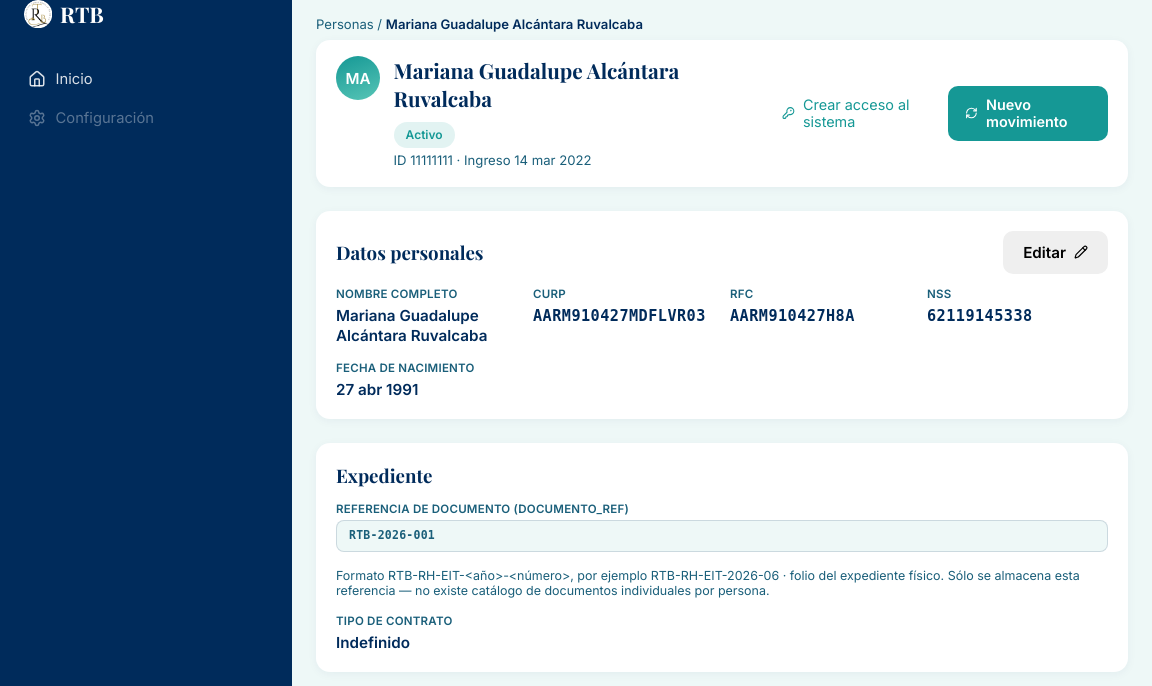
Test case: FichaPersonaPage › edición in-place de Datos personales/Expediente › submit con cambios manda PATCH sólo con los campos modificados, actualiza la vista y vuelve a modo lectura
Expected: the text "Mariana Guadalupe Alcántara Ruvalcaba" next to "Personas" is shown, [386,16,643,32]
Click the button "Editar". click: (1056, 252)
box: [1003,231,1108,274]
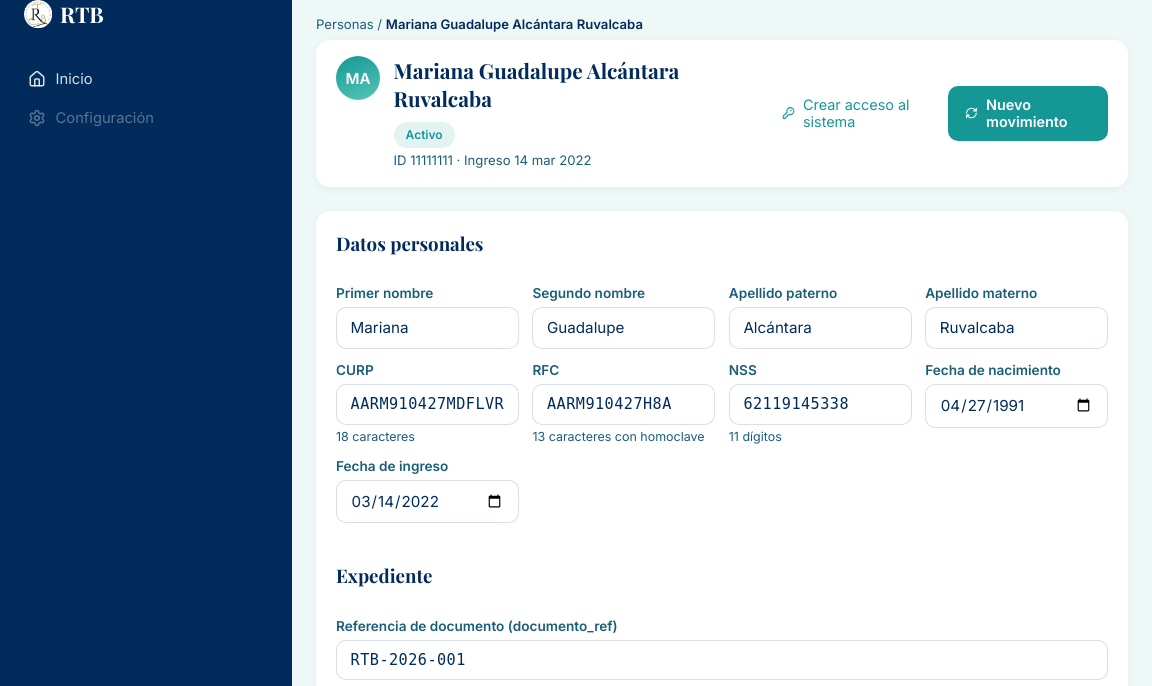
Replace the text in the field labelled "Primer nombre" with "Marianela". click: (427, 328)
box: [336,307,519,349]
(page scrolled)
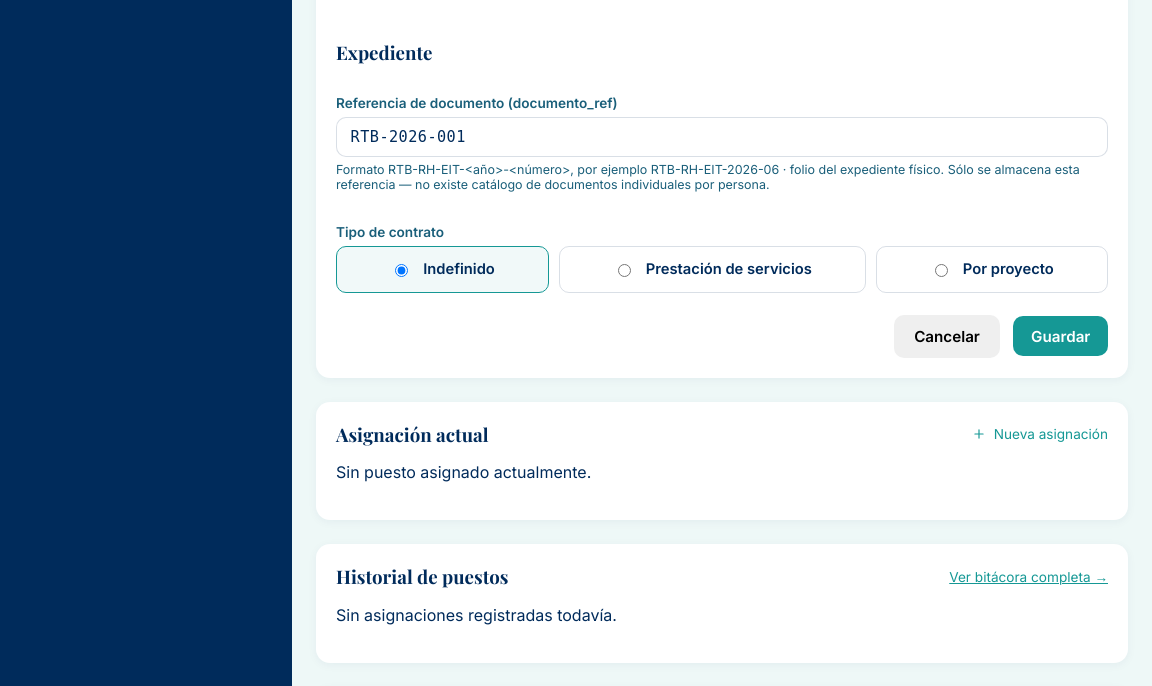
Click the button "Guardar". click: (1061, 336)
box: [1014,316,1108,356]
(page scrolled)
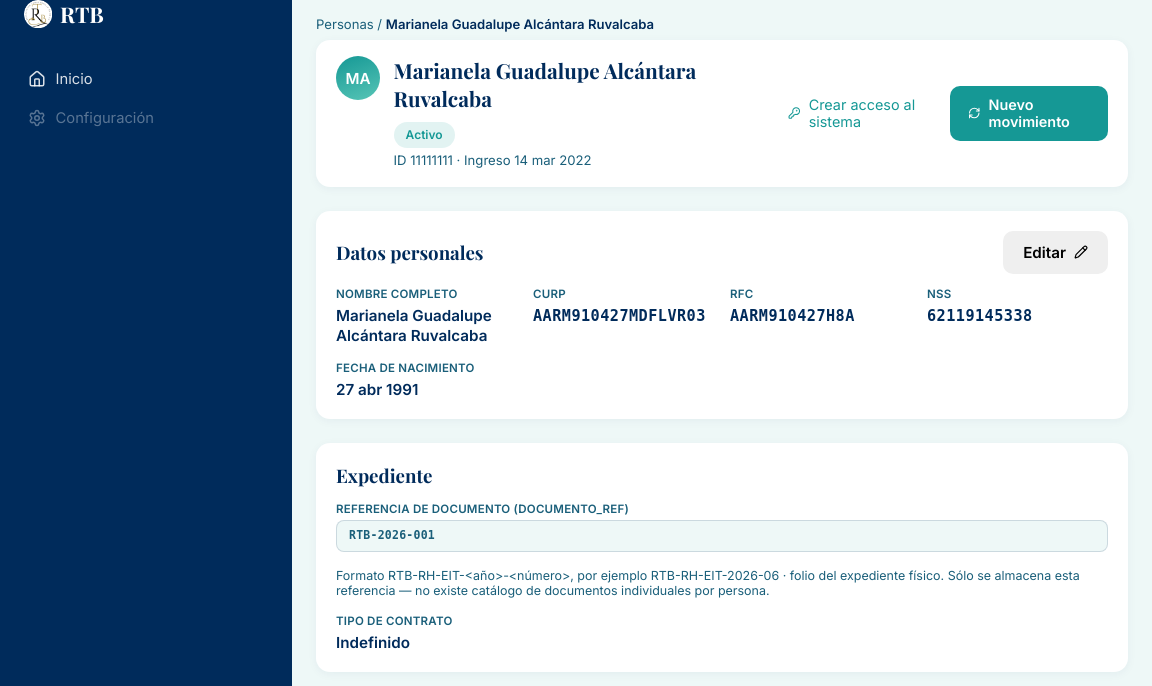
Expected: the text "Marianela Guadalupe Alcántara Ruvalcaba" next to "Personas" is shown, [386,16,654,32]
Expected: the button "Editar" is shown, [1003,231,1108,274]
Expected: the button "Guardar" is gone
